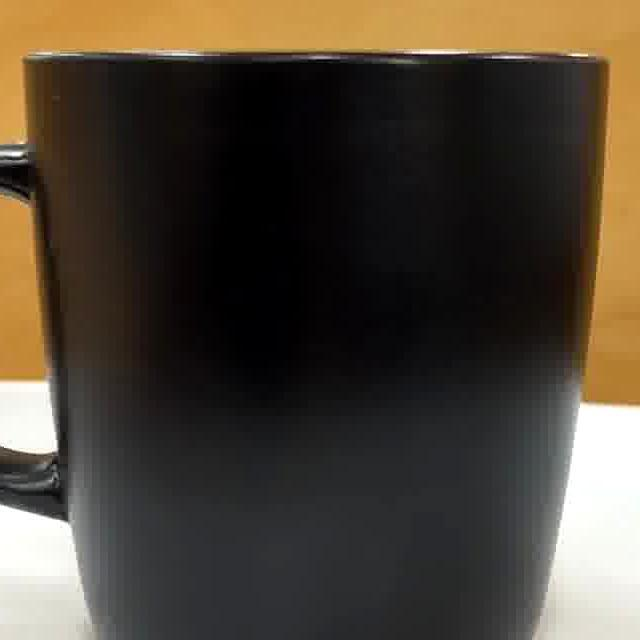cup: (0, 53, 602, 640)
